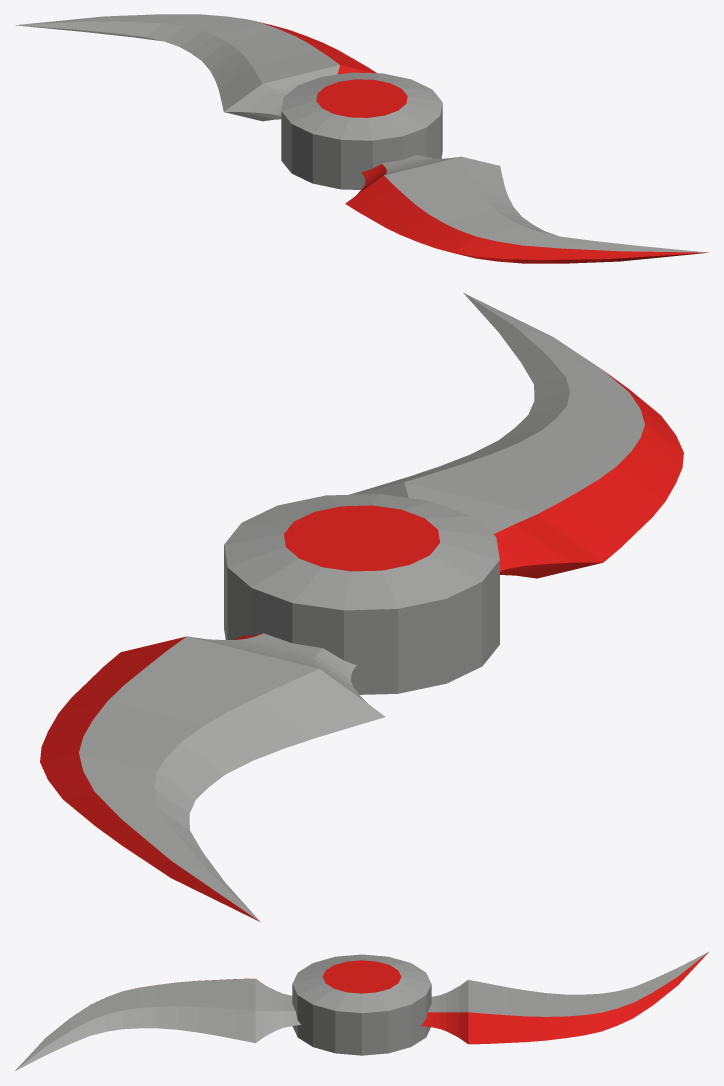
Rendered from Beyblade_Basic_Blade_Fire.fbx.
The picture shows the model from 3 angles, top to bottom: view 1: azimuth 30°, elevation 25°; view 2: azimuth 150°, elevation 25°; view 3: azimuth 270°, elevation 25°; orthographic projection. The views are drawn at different scales.
Parts seen in each view (by area): view 1: Circle.001; view 2: Circle.001; view 3: Circle.001.
Part boxes in pixels (x1,y1,x2,y2): Circle.001: (15,14,708,263); Circle.001: (40,293,683,921); Circle.001: (14,951,709,1071).
Bounding box in the file's own units: 162 × 35.77 × 394.
Materials: 1 (1 with a texture image).
